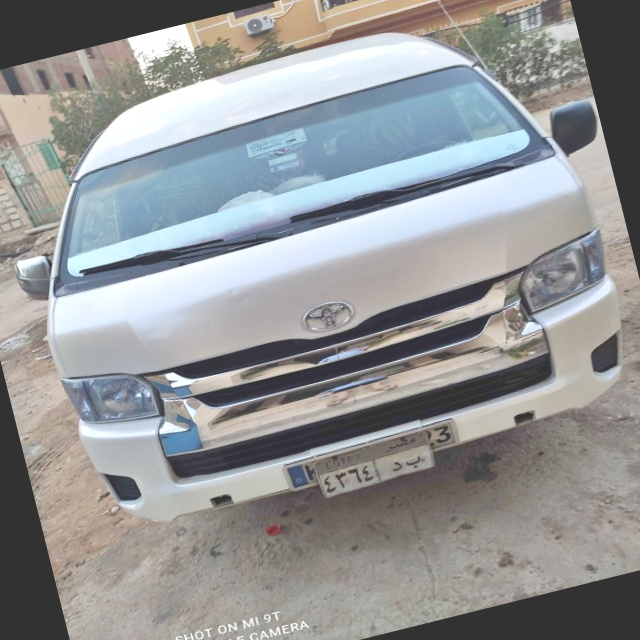License Plate: (311, 429, 438, 502)
